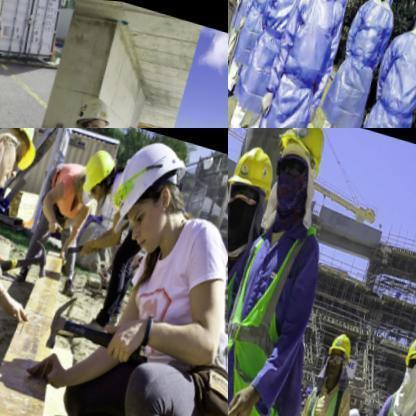vest: (228, 203, 331, 415), (250, 0, 355, 127), (327, 0, 400, 127), (239, 0, 311, 117), (347, 17, 415, 127), (228, 230, 250, 415), (233, 0, 290, 69), (294, 368, 354, 415), (369, 374, 415, 415), (232, 0, 276, 32)
